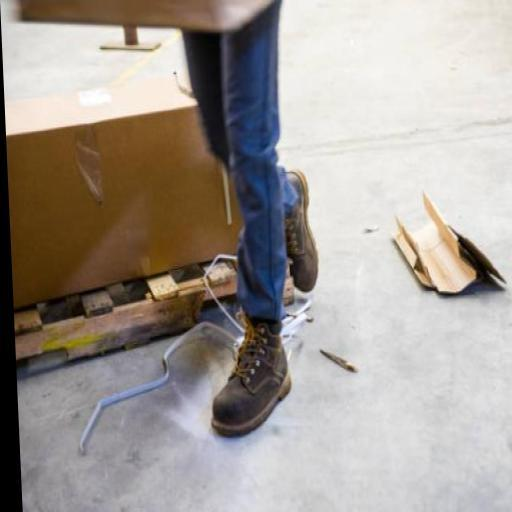safety_boots: (210, 316, 299, 436), (286, 163, 322, 303)
